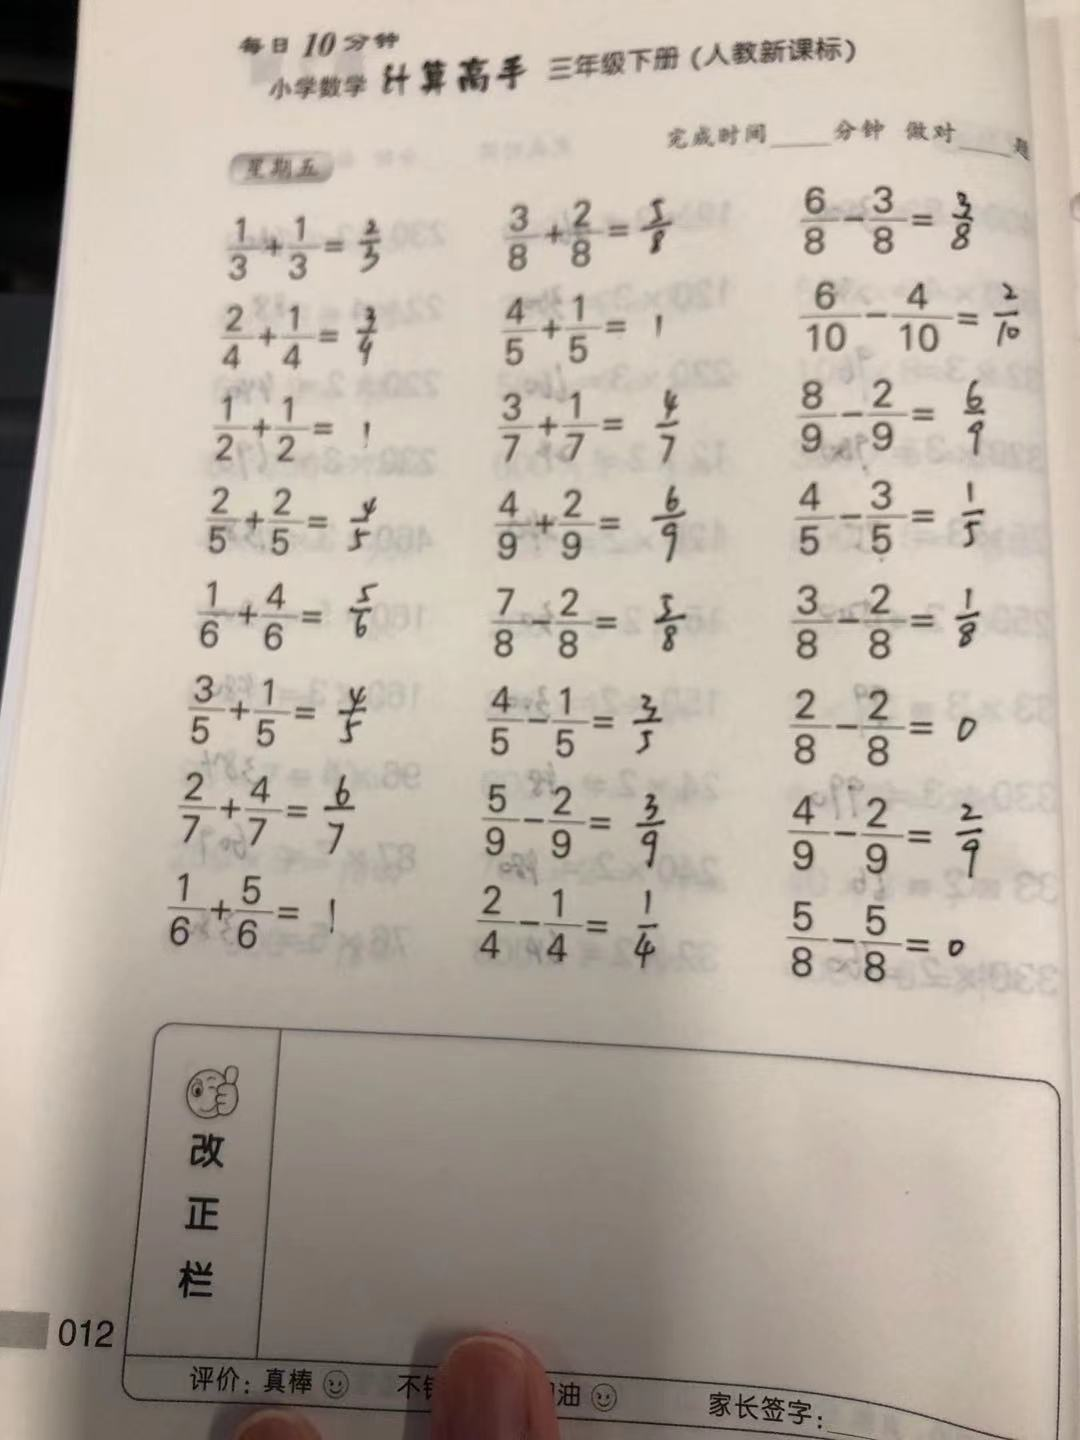equation: (461, 878, 708, 988), (482, 576, 728, 684), (759, 788, 1019, 888), (157, 758, 401, 861), (470, 776, 716, 875), (785, 478, 1041, 572), (485, 381, 748, 472), (481, 176, 722, 275), (764, 893, 1008, 987), (776, 684, 1019, 778), (787, 275, 1039, 364), (171, 672, 407, 767), (154, 867, 397, 959), (785, 373, 1022, 464), (181, 478, 422, 565), (204, 199, 430, 287), (482, 479, 704, 568), (488, 287, 714, 373), (174, 579, 414, 659), (788, 172, 1001, 261), (476, 673, 679, 765), (204, 390, 434, 470), (791, 585, 1007, 667), (210, 296, 414, 376)
